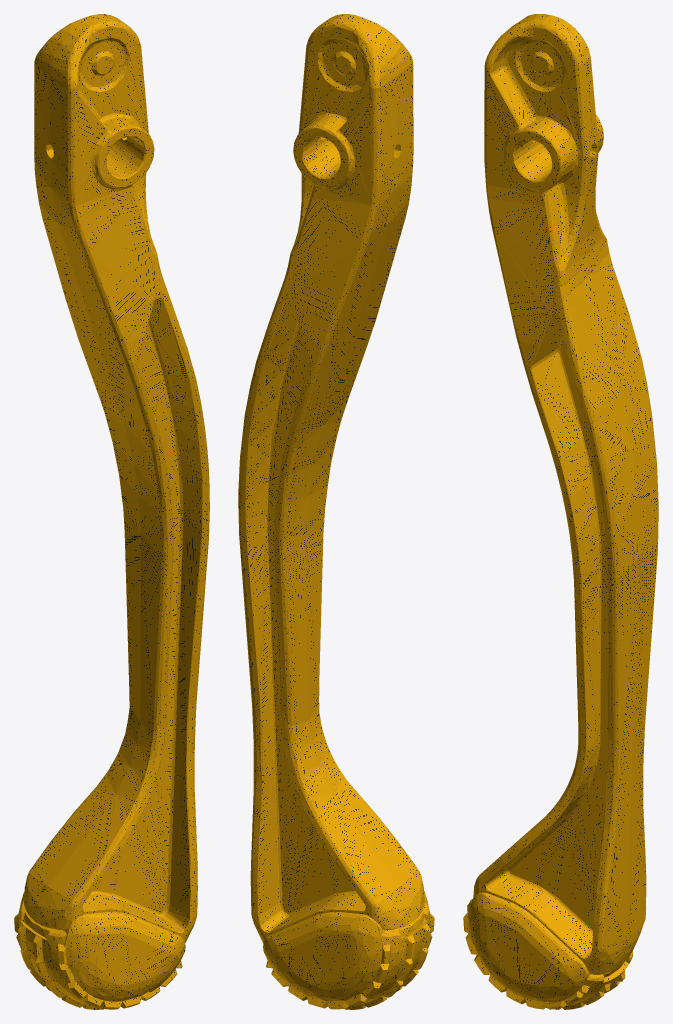
Rendered from rear_right_lower_leg.obj.
The picture shows the model from 3 angles, left to right: view 1: azimuth 30°, elevation 25°; view 2: azimuth 150°, elevation 25°; view 3: azimuth 330°, elevation 25°; orthographic projection.
Parts seen in each view (by area): view 1: rear_right_lower_leg; view 2: rear_right_lower_leg; view 3: rear_right_lower_leg.
Part boxes in pixels (x1=…): rear_right_lower_leg: x1=14, y1=14, x2=209, y2=1009; rear_right_lower_leg: x1=238, y1=14, x2=434, y2=1009; rear_right_lower_leg: x1=463, y1=14, x2=658, y2=1009.
Size of the model in its own units: 0.0745 by 0.4249 by 0.046.
